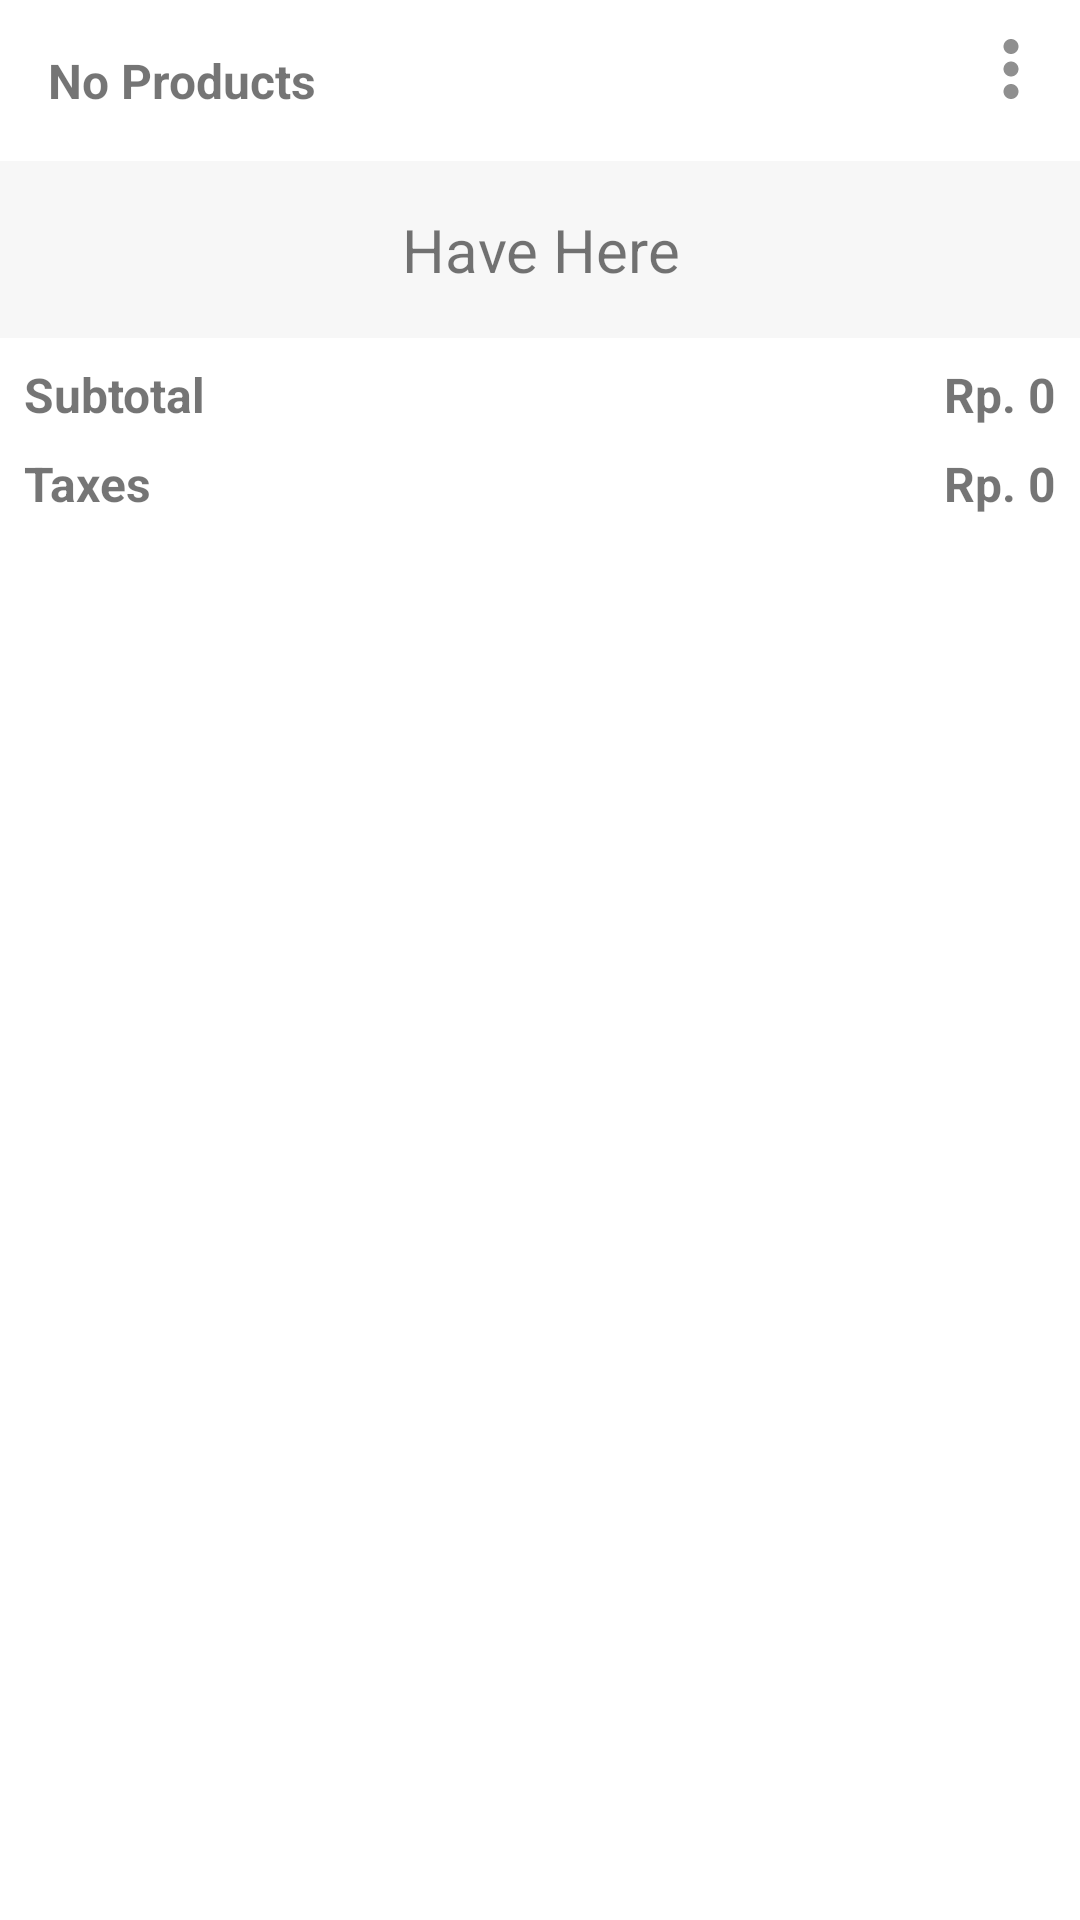

Icon click points for this 1080 x 1920 phone screenshot, format (x=x, y=y):
more vert: (x=1011, y=69)
